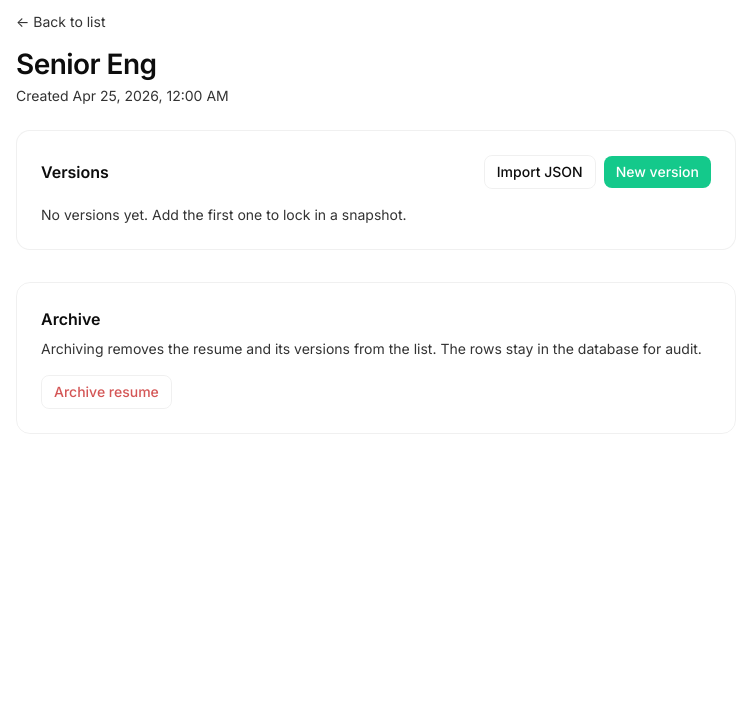
Test: ResumeDetail › import form blocks submit with no file picked
The image size is (753, 705).
Click the button with test id "resume-detail-import-toggle" at (540, 172), box [484,155,596,189]
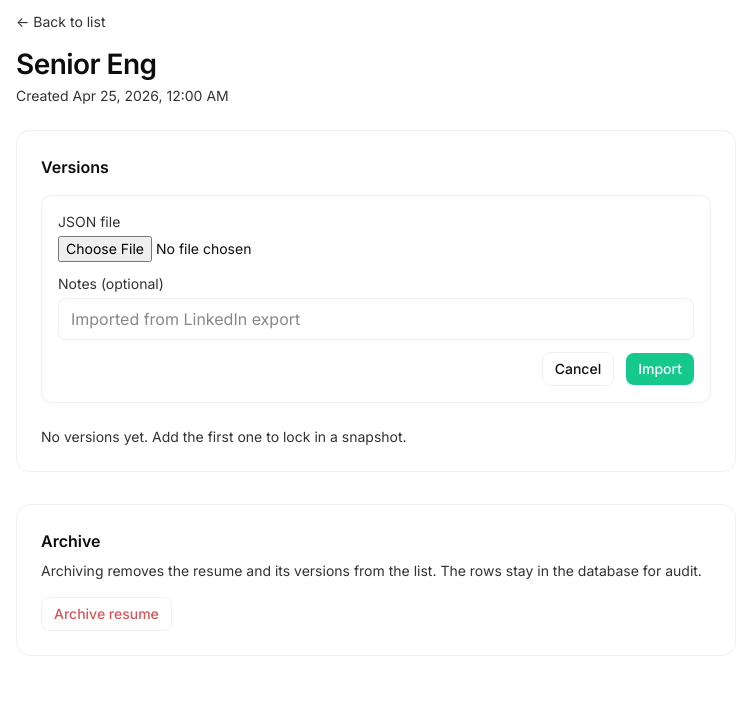
Submit the form with test id "resume-detail-import-form", box [41,195,711,403]
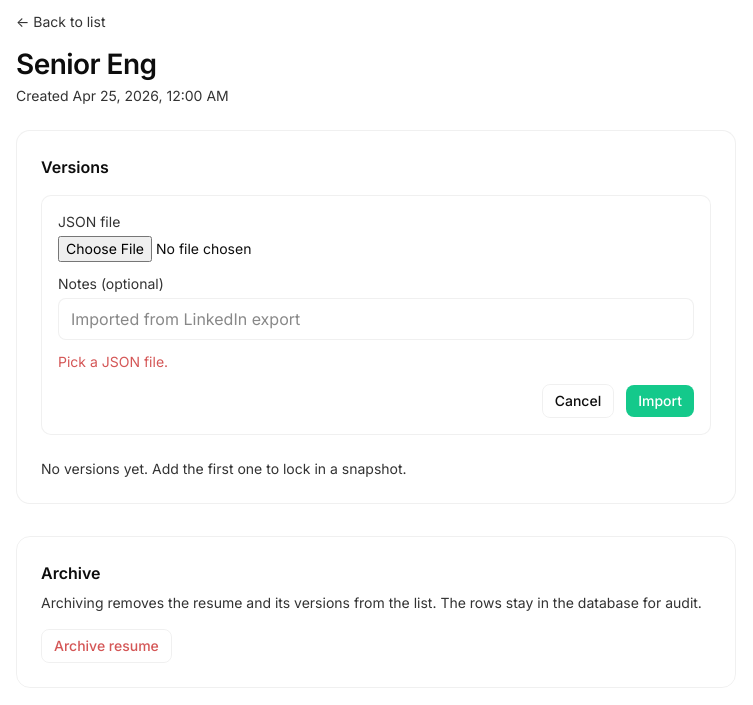
Now the message with test id "resume-detail-import-error" shows "Pick a JSON file", box [58,353,168,370]
